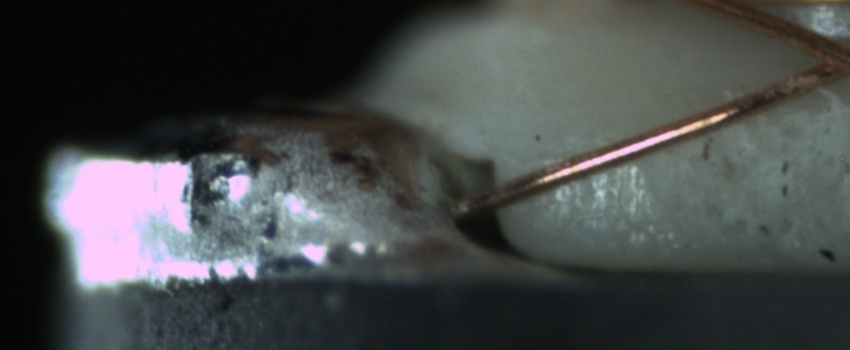CL: (793, 27, 849, 89)
